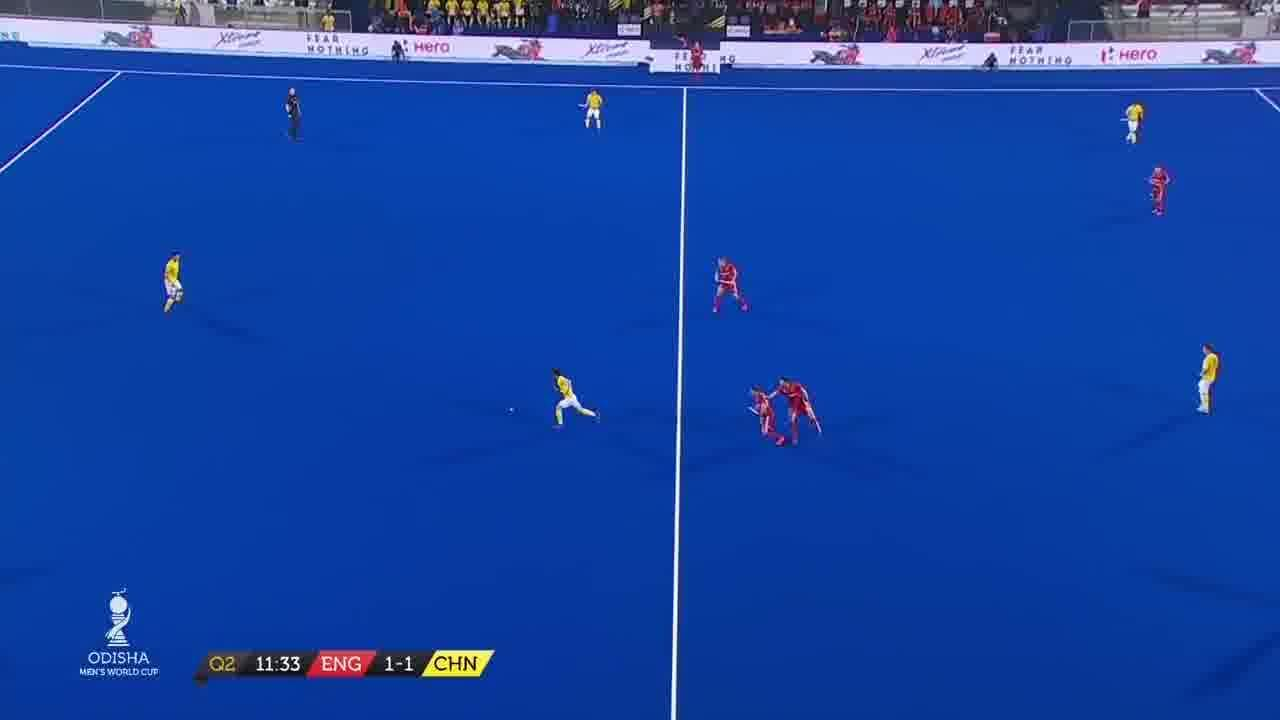ball: (504, 400, 522, 422)
